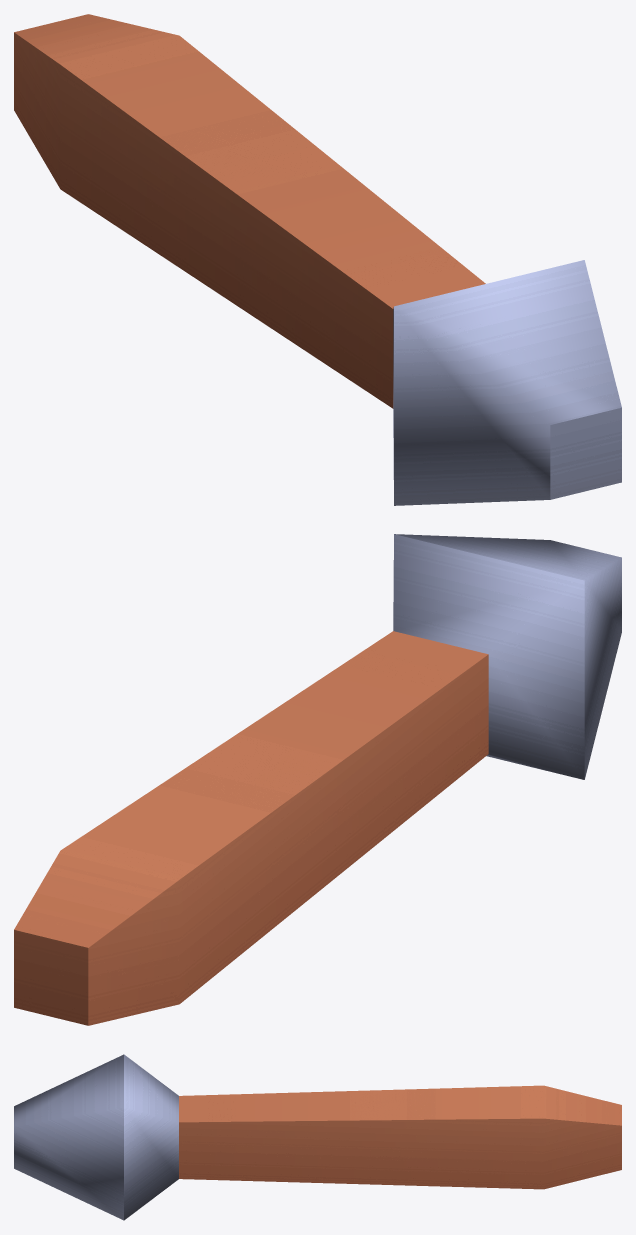
File: tower-defense-kit--weapon-ammo-arrow.glb
The picture shows the model from 3 angles, top to bottom: view 1: azimuth 30°, elevation 25°; view 2: azimuth 150°, elevation 25°; view 3: azimuth 270°, elevation 25°; orthographic projection. The views are drawn at different scales.
Visible parts, largest first — view 1: weapon-ammo-arrow; view 2: weapon-ammo-arrow; view 3: weapon-ammo-arrow.
Part boxes in pixels (x1,y1,x2,y2): weapon-ammo-arrow: (14, 14, 621, 505); weapon-ammo-arrow: (14, 534, 621, 1025); weapon-ammo-arrow: (14, 1054, 621, 1220).
Bounding box in the file's own units: 0.16 × 0.16 × 0.7776.
1 material, 1 textured.
